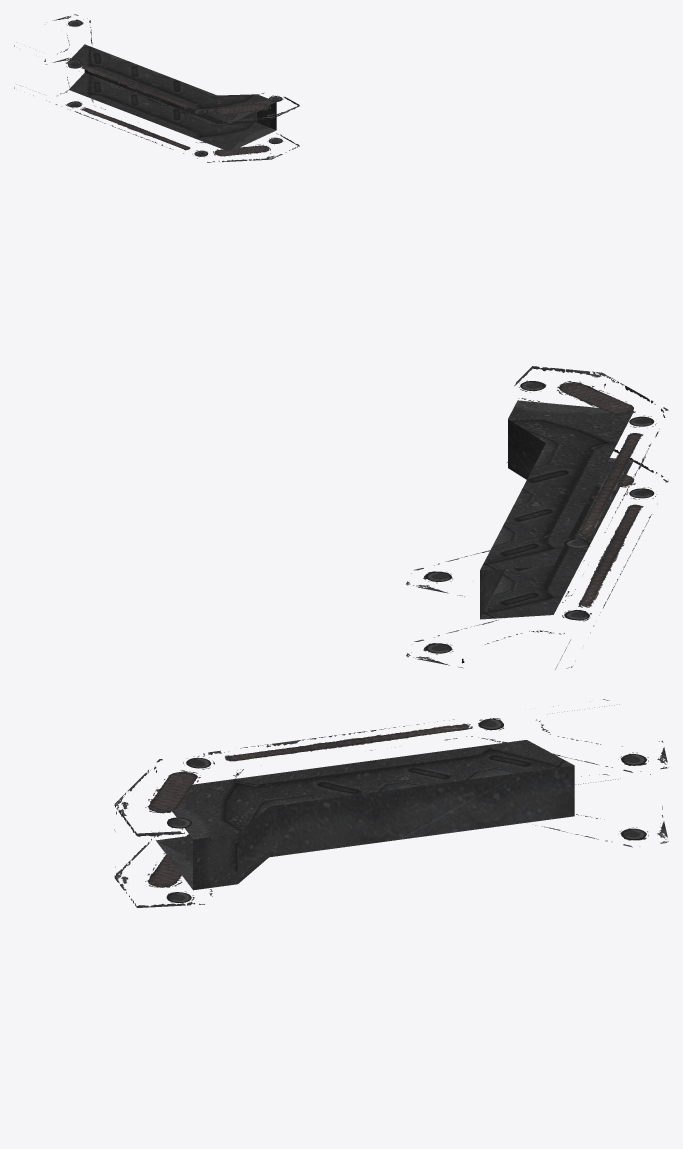
File: t6_wpn_ballistic_knife_world_LOD2.obj
3 renders of one model, top to bottom at view 1: azimuth 30°, elevation 25°; view 2: azimuth 150°, elevation 25°; view 3: azimuth 270°, elevation 25°, orthographic. The views are drawn at different scales.
Visible parts, largest first — view 1: mtl_t6_wpn_ballistic_knife_camo1; view 2: mtl_t6_wpn_ballistic_knife_camo1; view 3: mtl_t6_wpn_ballistic_knife_camo1.
Boxes of the visible parts, x1=… form: mtl_t6_wpn_ballistic_knife_camo1: x1=14, y1=14, x2=299, y2=162; mtl_t6_wpn_ballistic_knife_camo1: x1=406, y1=366, x2=668, y2=669; mtl_t6_wpn_ballistic_knife_camo1: x1=114, y1=699, x2=668, y2=907.
Size of the model in its own units: 28.11 by 2.29 by 18.25.
